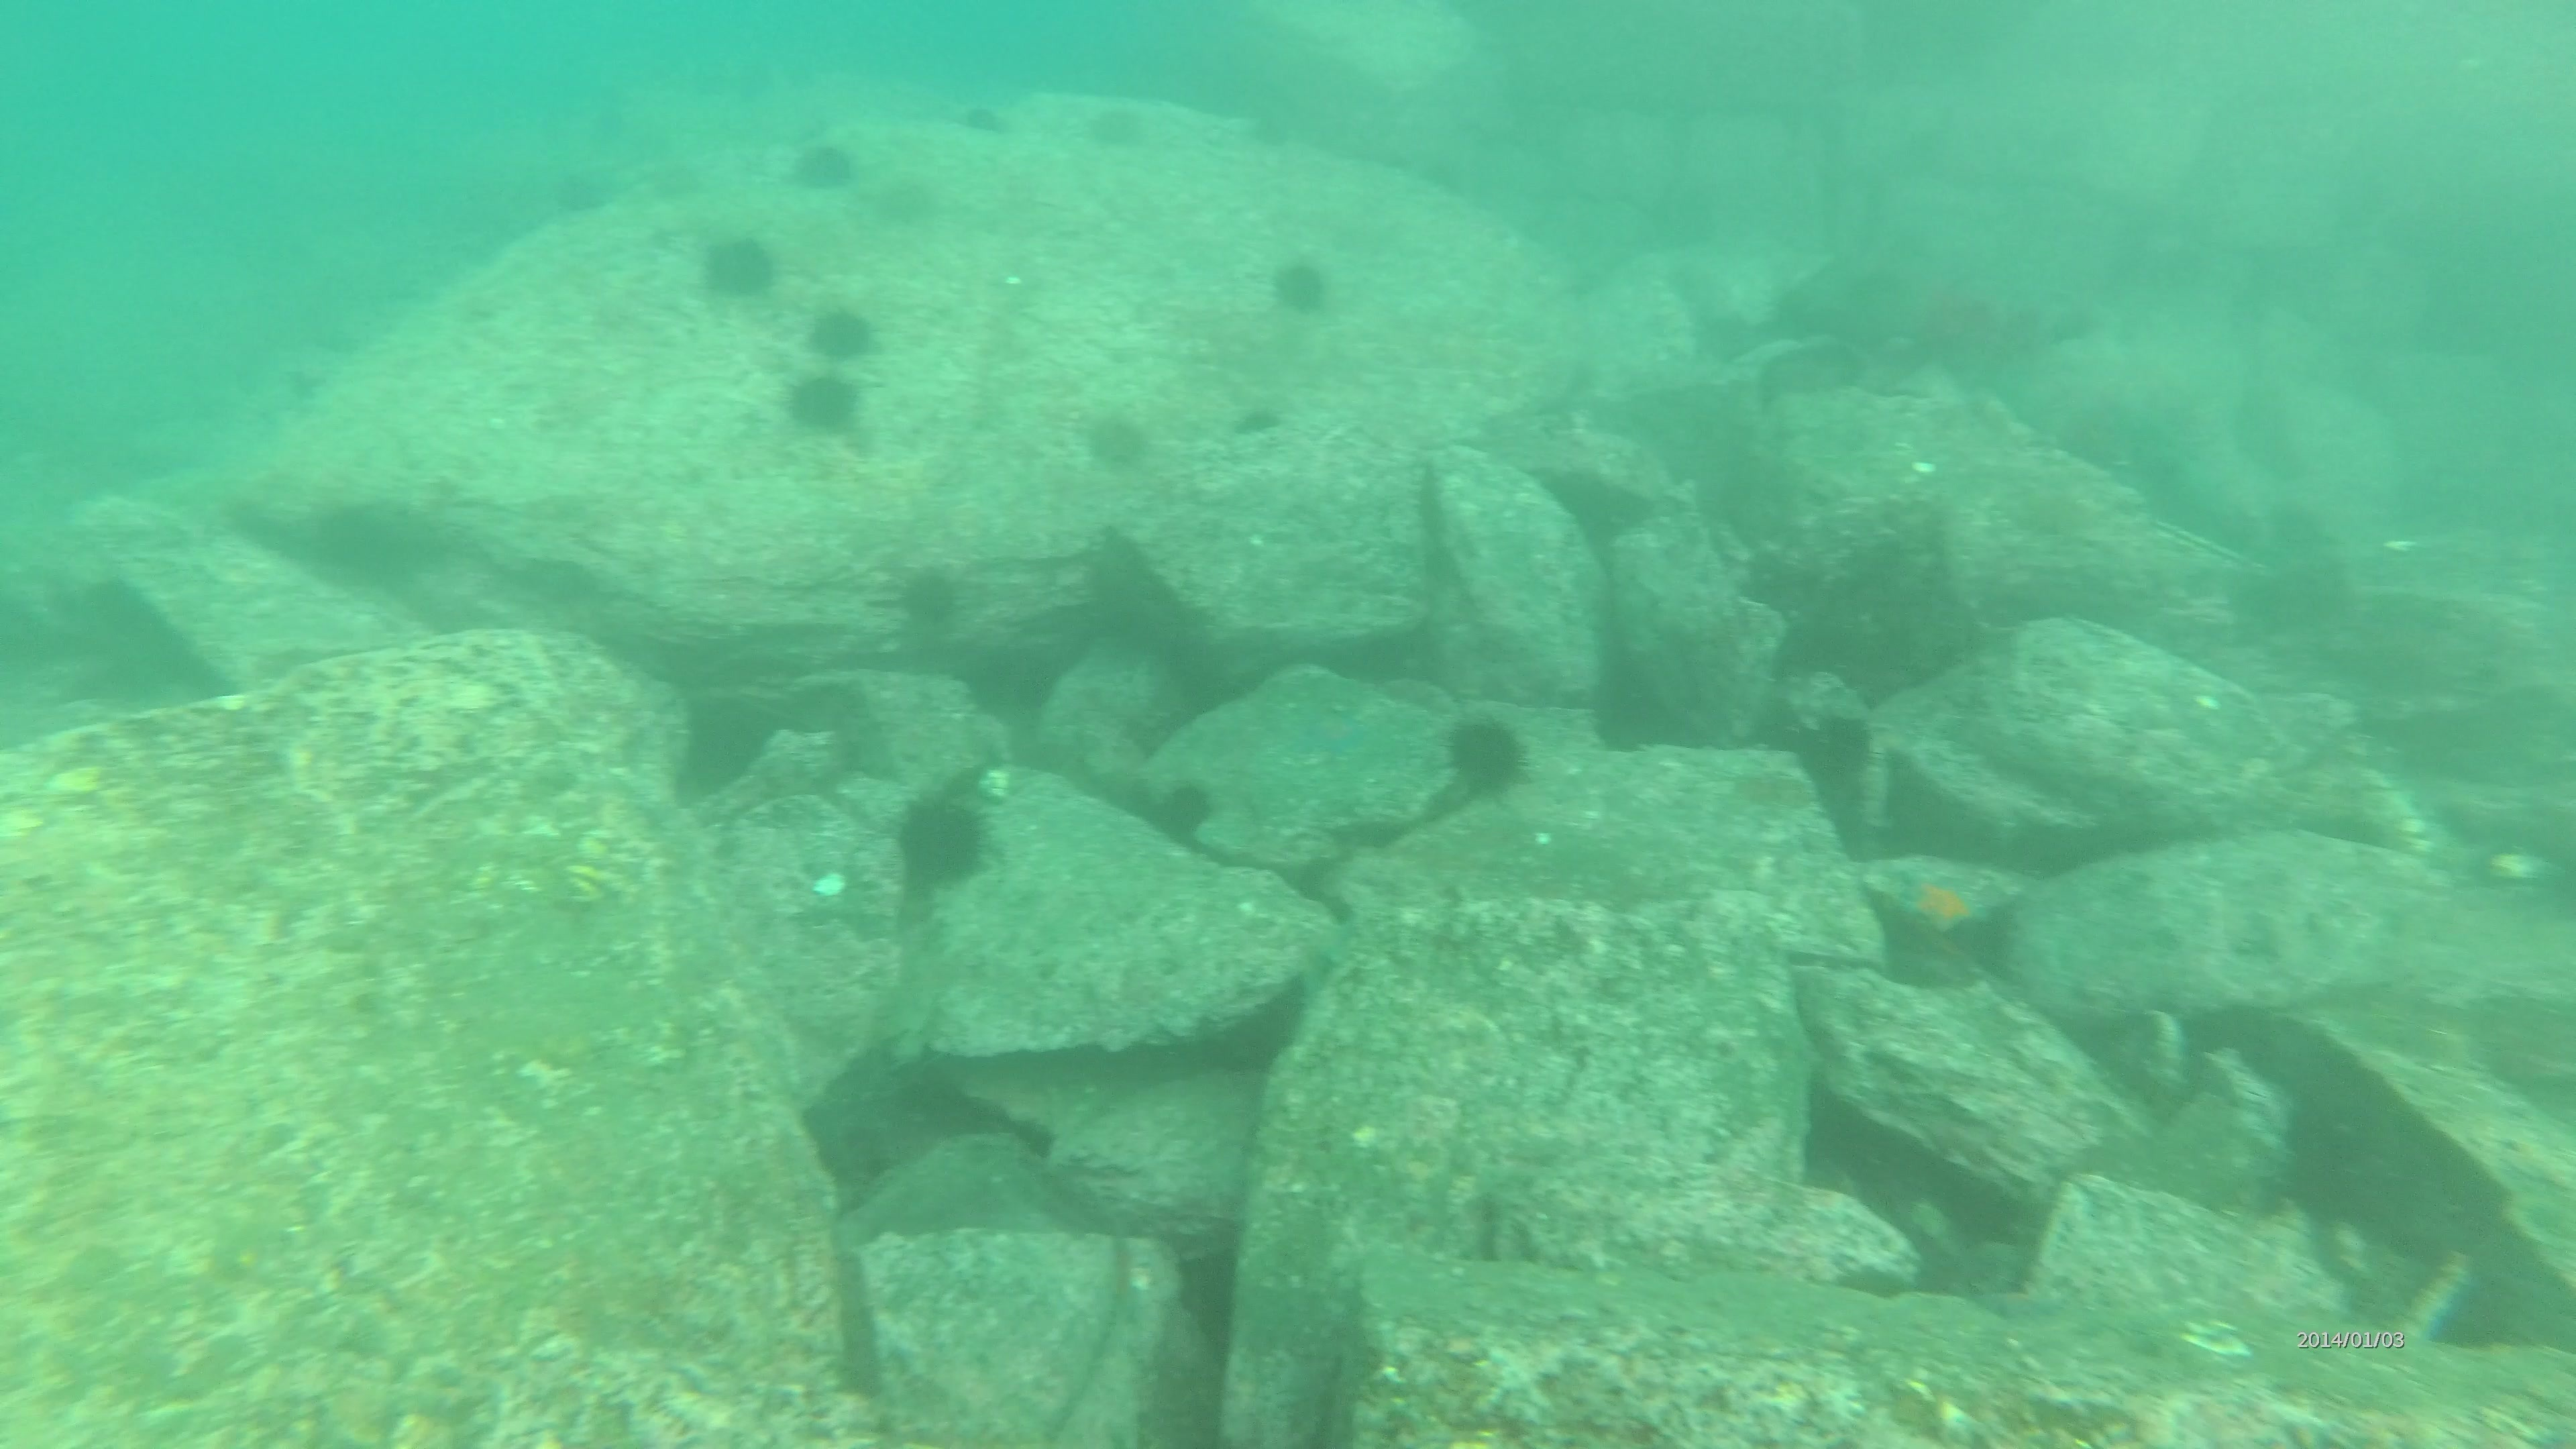echinus: (886, 782, 1000, 897), (1433, 706, 1537, 807), (885, 557, 971, 646), (692, 226, 782, 308), (1141, 771, 1223, 851), (780, 368, 867, 442), (1077, 402, 1157, 478), (801, 297, 883, 366), (1263, 249, 1339, 322), (869, 166, 945, 234), (786, 133, 862, 198), (1081, 96, 1155, 159), (548, 165, 623, 216), (954, 94, 1016, 140), (651, 163, 694, 198)
starfish: (1858, 847, 2022, 984), (1284, 692, 1403, 771)
